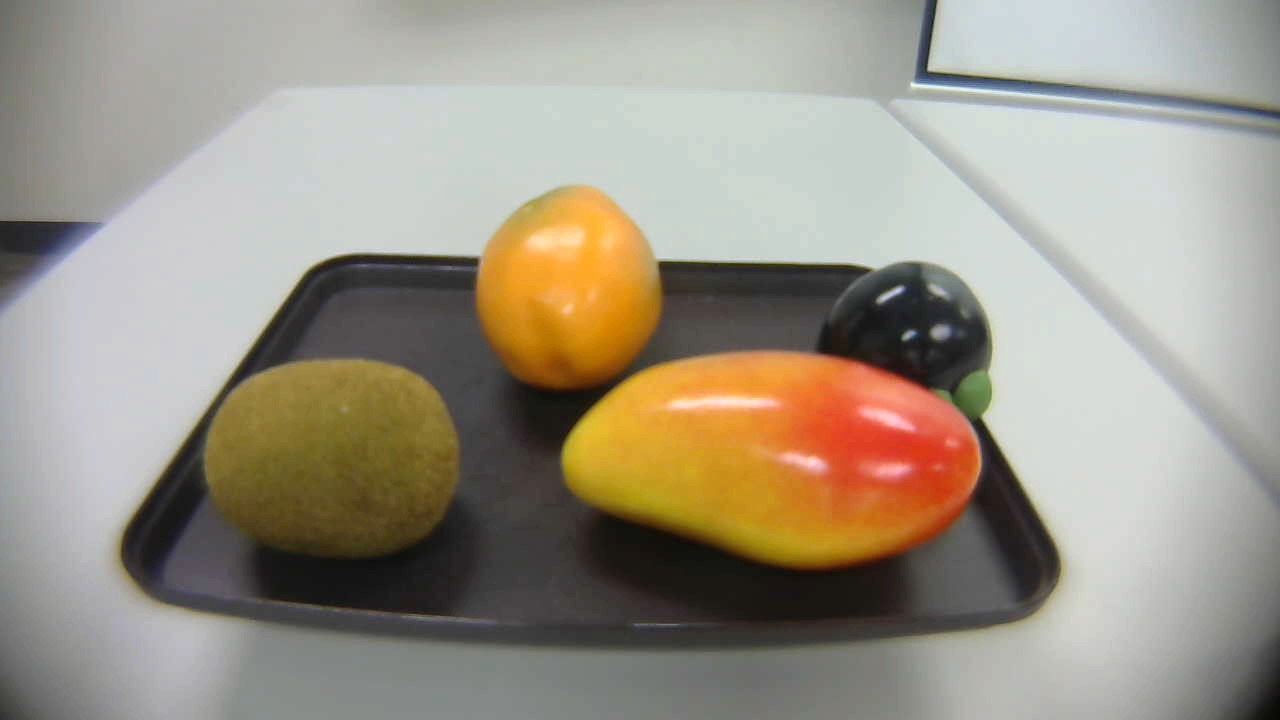kiwi fruit: (198, 351, 467, 561)
mangosteen: (817, 255, 996, 425)
papya: (460, 176, 670, 403)
red mango: (550, 349, 987, 576)
